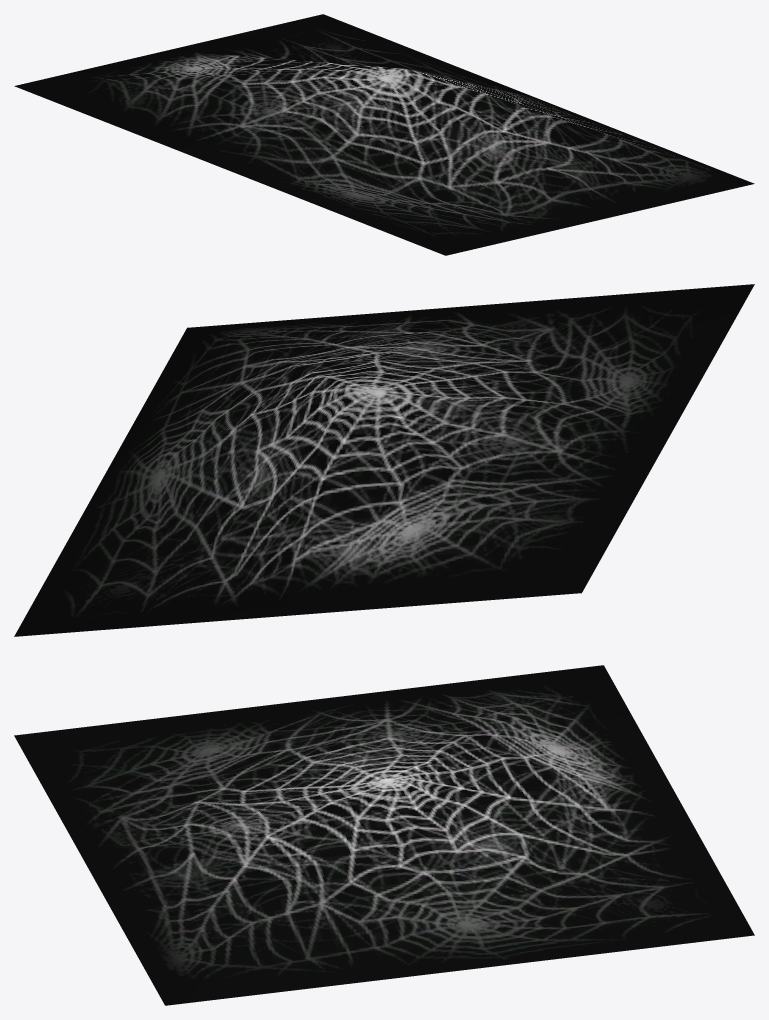
Rendered from MIRKWOOD_PLANE22.fbx.
The picture shows the model from 3 angles, top to bottom: view 1: azimuth 30°, elevation 25°; view 2: azimuth 150°, elevation 25°; view 3: azimuth 270°, elevation 25°; orthographic projection. The views are drawn at different scales.
Parts seen in each view (by area): view 1: MIRKWOOD_PLANE22; view 2: MIRKWOOD_PLANE22; view 3: MIRKWOOD_PLANE22.
Boxes of the visible parts, box(x1,y1,x2,y2) form: MIRKWOOD_PLANE22: box(14, 14, 754, 255); MIRKWOOD_PLANE22: box(14, 284, 754, 636); MIRKWOOD_PLANE22: box(14, 665, 754, 1005).
Size of the model in its own units: 119540 by 20651 by 140318.
Materials: 1 (1 with a texture image).
